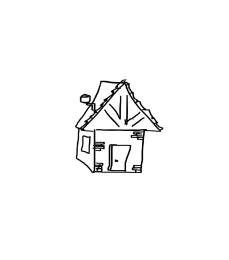chimney: (77, 90, 102, 116)
door: (104, 140, 135, 177)
open_window: (79, 134, 92, 155)
roof: (72, 75, 168, 134)
small_house: (0, 0, 228, 257)
wall: (92, 124, 149, 176)
